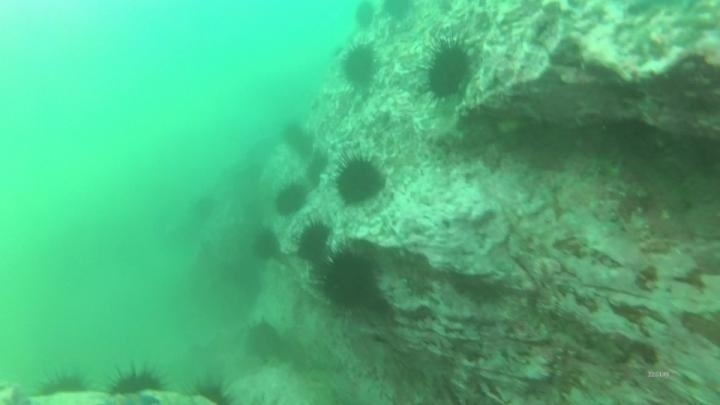echinus: (317, 245, 381, 313), (422, 36, 477, 102), (332, 153, 387, 208), (104, 360, 168, 400), (338, 40, 380, 90), (242, 318, 285, 364), (294, 219, 334, 265), (35, 368, 90, 401), (272, 181, 310, 219), (191, 376, 239, 405), (279, 120, 314, 156), (249, 226, 282, 263), (303, 150, 330, 187), (190, 192, 220, 223), (380, 0, 417, 23), (352, 1, 379, 32)
